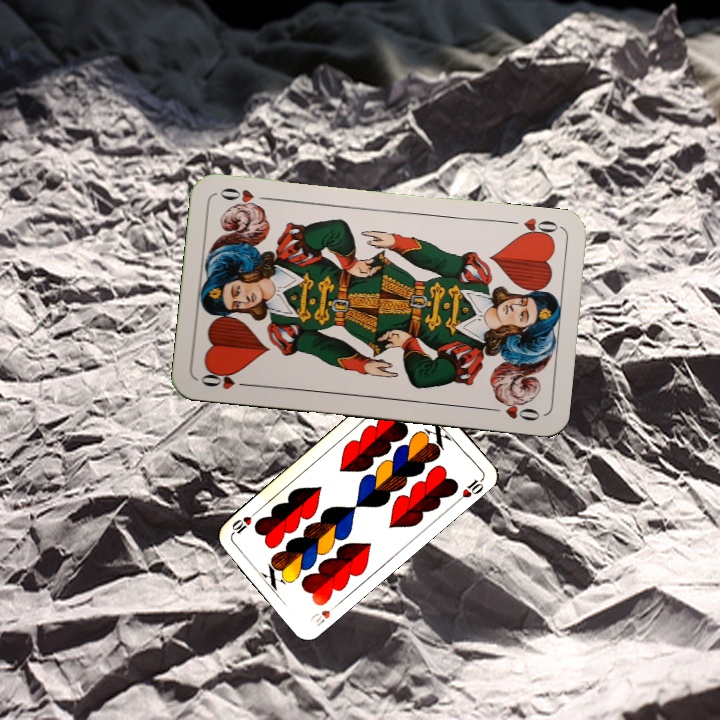H10: (306, 599, 342, 629)
HO: (504, 214, 563, 242), (197, 366, 255, 392)
